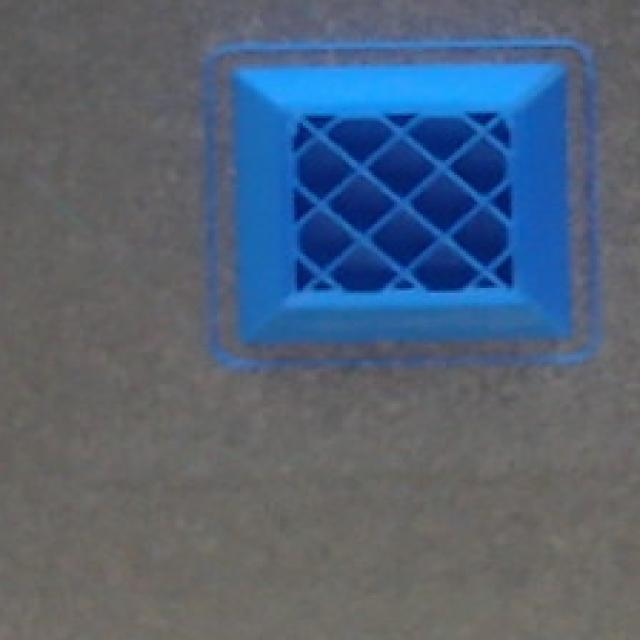noMistake: (230, 51, 585, 353)
